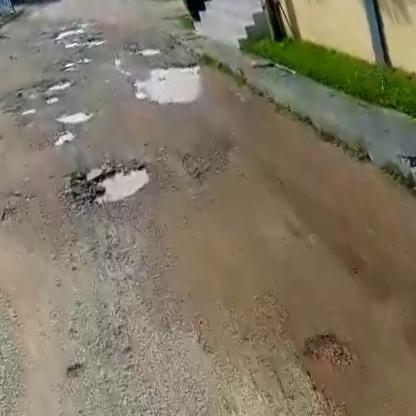pothole: (129, 48, 215, 116), (71, 147, 157, 212), (293, 326, 360, 405), (34, 75, 74, 101), (58, 108, 93, 134), (51, 128, 81, 150)
